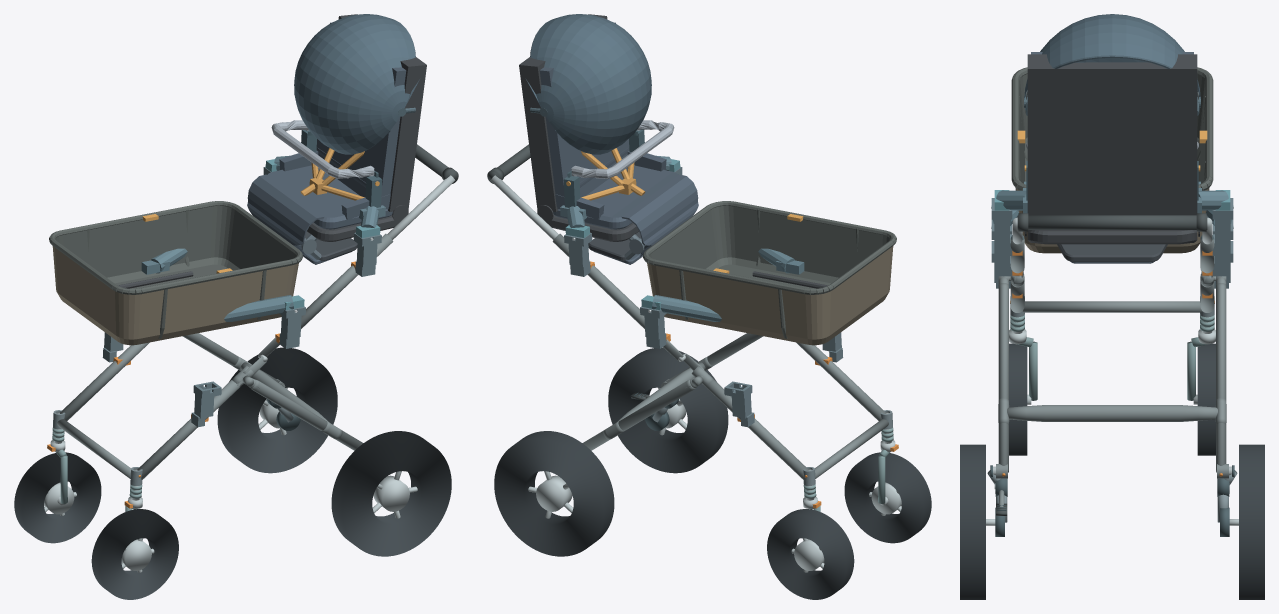
File: D14_w550_state1_wheel_L.glb
3 views of the same model, side by side, from view 1: azimuth 30°, elevation 25°; view 2: azimuth 150°, elevation 25°; view 3: azimuth 270°, elevation 25° (orthographic). The views are drawn at different scales.
Visible parts, largest first — view 1: D14_Upper, D14_Lower, RL_tire.002, RR_tire.002, FL_tire.002, FR_tire.002, D14_Lower_Mount_M, V46_rear_leg_-1.003, main_lower_-1.003, main_lower_1.003, main_upper_-1.003, RL_sealed_hub.002 (+9 smaller); view 2: D14_Upper, D14_Lower, RR_tire.002, RL_tire.002, FR_tire.002, FL_tire.002, D14_Lower_Mount_M, V46_rear_leg_1.003, main_lower_1.003, main_lower_-1.003, main_upper_1.003, RR_sealed_hub.002 (+9 smaller); view 3: D14_Upper, D14_Lower, RL_tire.002, RR_tire.002, V46_rearbar.003, round_handle.002, front_fixed_round_tube.002, FL_tire.002, FR_tire.002, V46_rear_leg_1.003, V46_rear_leg_-1.003, D14_Upper_Mount_H (+8 smaller).
Boxes of the visible parts, x1=… form: D14_Upper: x1=247, y1=14, x2=426, y2=264; D14_Lower: x1=49, y1=201, x2=302, y2=345; RL_tire.002: x1=331, y1=431, x2=451, y2=556; RR_tire.002: x1=217, y1=347, x2=337, y2=473; FL_tire.002: x1=91, y1=509, x2=178, y2=599; FR_tire.002: x1=14, y1=452, x2=101, y2=543; D14_Lower_Mount_M: x1=141, y1=248, x2=304, y2=321; V46_rear_leg_-1.003: x1=250, y1=380, x2=363, y2=450; main_lower_-1.003: x1=137, y1=380, x2=242, y2=479; main_lower_1.003: x1=60, y1=342, x2=149, y2=420; main_upper_-1.003: x1=279, y1=233, x2=393, y2=334; RL_sealed_hub.002: x1=373, y1=475, x2=409, y2=511; D14_Upper: x1=519, y1=14, x2=698, y2=264; D14_Lower: x1=643, y1=201, x2=896, y2=345; RR_tire.002: x1=494, y1=431, x2=614, y2=556; RL_tire.002: x1=608, y1=347, x2=728, y2=473; FR_tire.002: x1=767, y1=509, x2=854, y2=599; FL_tire.002: x1=844, y1=452, x2=931, y2=543; D14_Lower_Mount_M: x1=641, y1=248, x2=804, y2=321; V46_rear_leg_1.003: x1=582, y1=380, x2=695, y2=450; main_lower_1.003: x1=703, y1=380, x2=808, y2=479; main_lower_-1.003: x1=796, y1=342, x2=885, y2=420; main_upper_1.003: x1=552, y1=233, x2=666, y2=334; RR_sealed_hub.002: x1=536, y1=475, x2=572, y2=511; D14_Upper: x1=1024, y1=14, x2=1200, y2=263; D14_Lower: x1=1011, y1=67, x2=1213, y2=253; RL_tire.002: x1=960, y1=444, x2=985, y2=599; RR_tire.002: x1=1239, y1=444, x2=1264, y2=599; V46_rearbar.003: x1=1007, y1=405, x2=1217, y2=421; round_handle.002: x1=1017, y1=215, x2=1207, y2=229; front_fixed_round_tube.002: x1=1023, y1=301, x2=1201, y2=312; FL_tire.002: x1=1009, y1=343, x2=1027, y2=455; FR_tire.002: x1=1197, y1=343, x2=1215, y2=455; V46_rear_leg_1.003: x1=1216, y1=283, x2=1226, y2=472; V46_rear_leg_-1.003: x1=998, y1=283, x2=1008, y2=472; D14_Upper_Mount_H: x1=991, y1=188, x2=1233, y2=213.
Size of the model in its own units: 1.19 by 1.51 by 0.7071.
